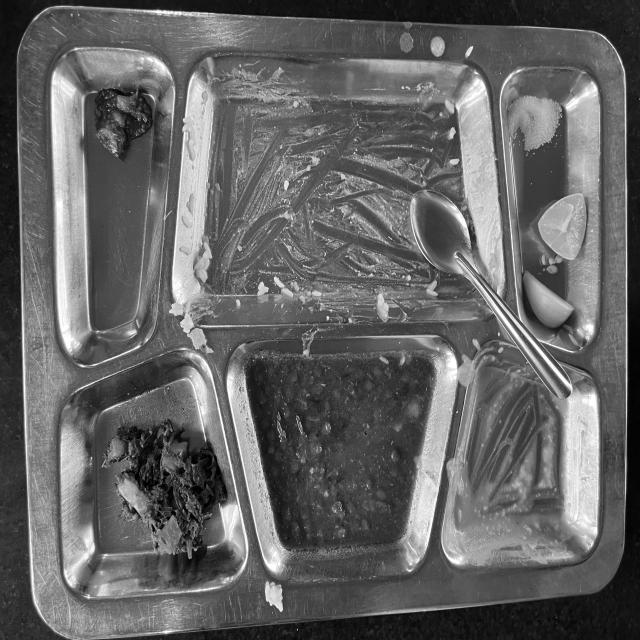20-Food-Left: (34, 24, 624, 585)
